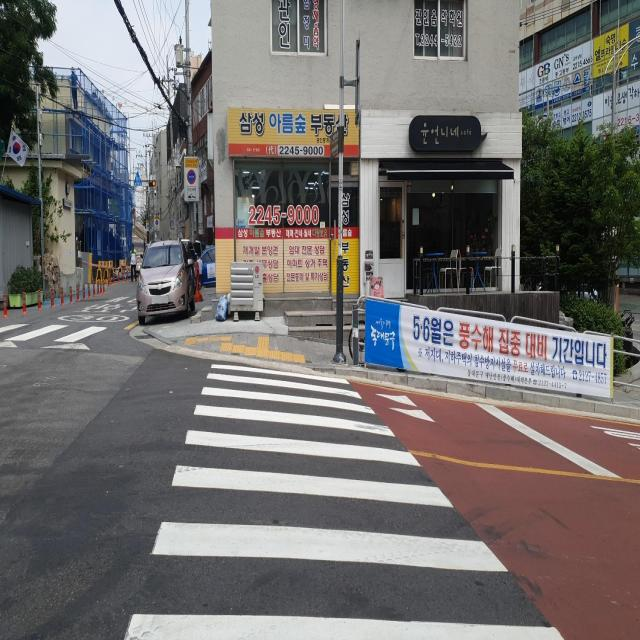횡단보도: (119, 356, 568, 640), (0, 320, 110, 353)
